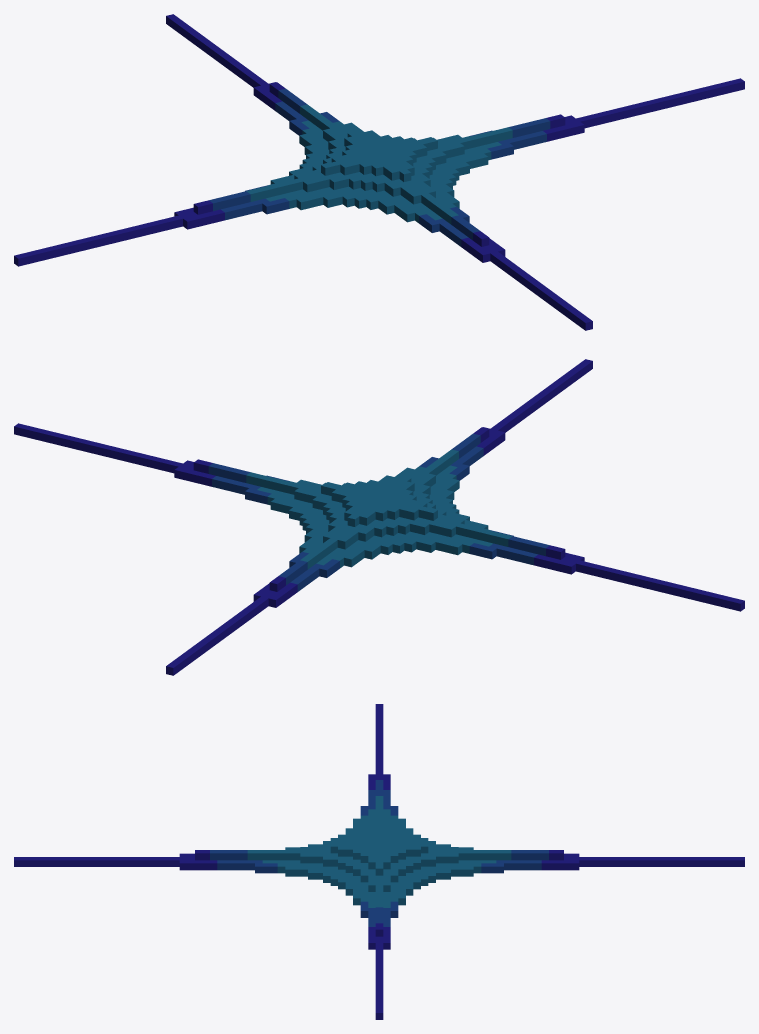
The model's file is grid_between.obj.
3 renders of one model, top to bottom at view 1: azimuth 30°, elevation 25°; view 2: azimuth 150°, elevation 25°; view 3: azimuth 270°, elevation 25°, orthographic. The views are drawn at different scales.
Size of the model in its own units: 9.7 by 0.3 by 9.7.
1 material, 1 textured.
